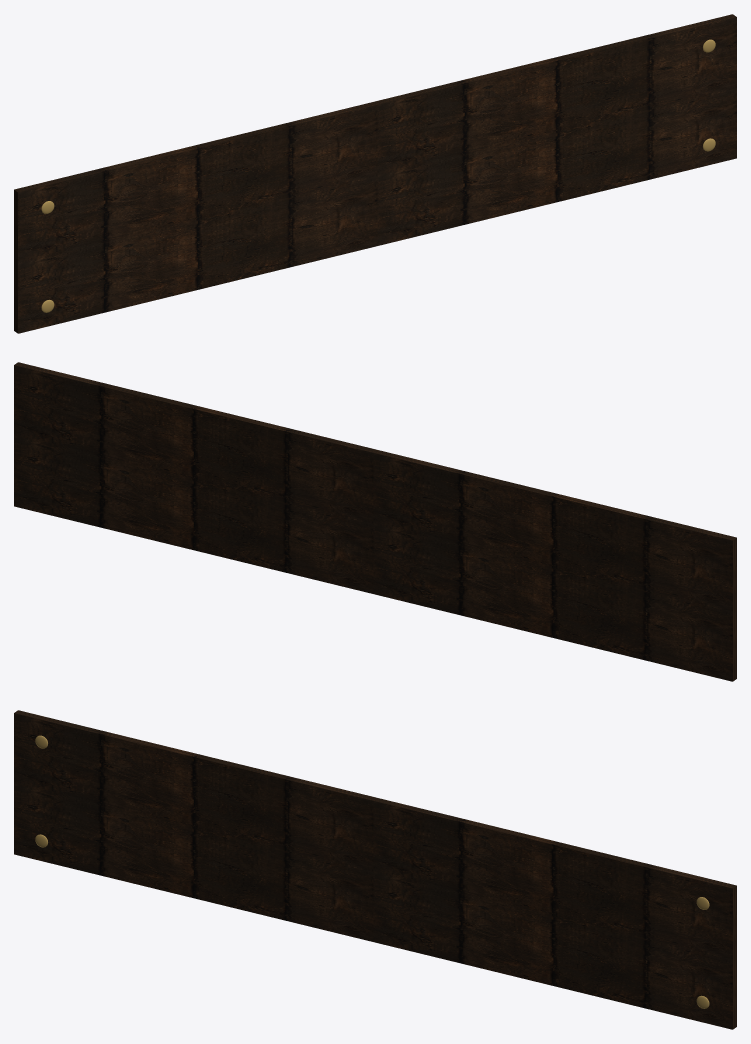
3 views of the same model, one above another, from view 1: azimuth 30°, elevation 25°; view 2: azimuth 150°, elevation 25°; view 3: azimuth 330°, elevation 25° (orthographic).
Visible parts, largest first — view 1: a-panel; view 2: a-panel; view 3: a-panel.
Part boxes in pixels (bbox=[...]): a-panel: bbox=[14, 14, 736, 333]; a-panel: bbox=[14, 362, 736, 681]; a-panel: bbox=[14, 710, 736, 1029].
Bounding box in the file's own units: 2.45 × 0.46 × 0.035.
Materials: 2 (1 with a texture image).
